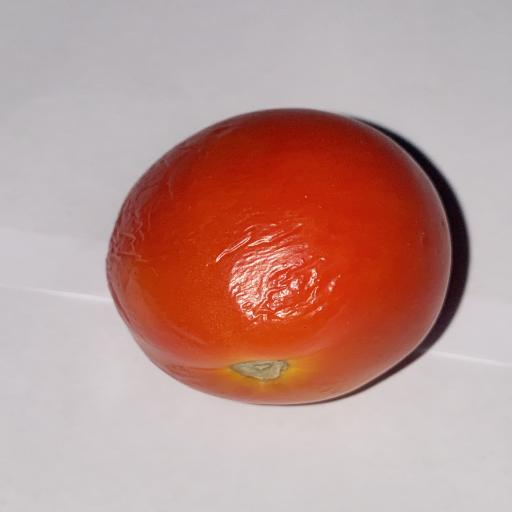overipe: (106, 109, 451, 404)
